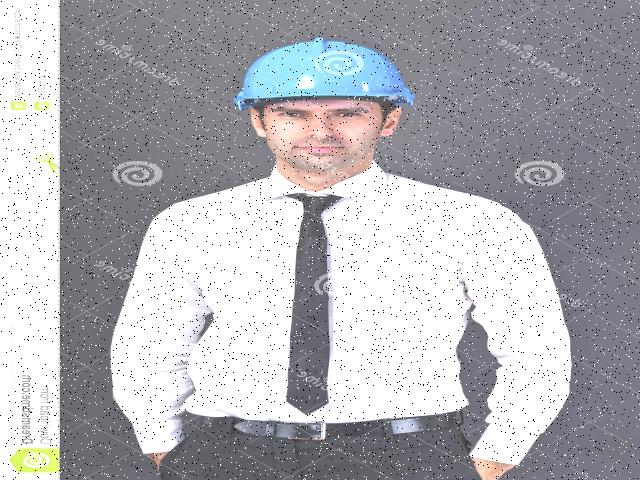Helmet: (218, 31, 424, 120)
